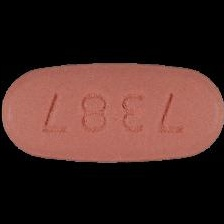0093-7387: (0, 0, 224, 224)
